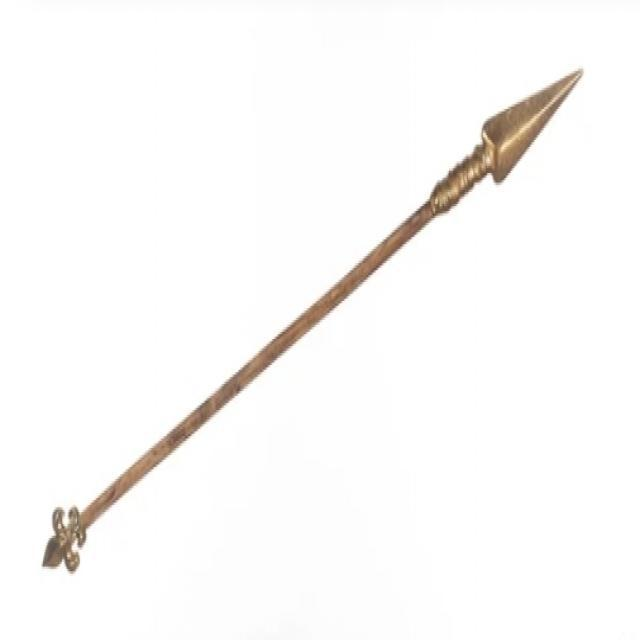spear: (42, 59, 595, 578)
